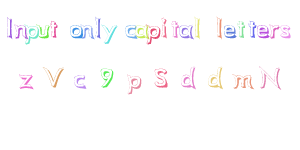9: (93, 61, 117, 93)
I: (1, 13, 19, 43)
N: (257, 62, 283, 93)
S: (150, 63, 171, 92)
V: (40, 61, 66, 92)
a: (177, 22, 194, 42), (133, 22, 149, 41)
c: (71, 70, 91, 95), (123, 22, 138, 40)
d: (203, 64, 228, 93), (175, 63, 199, 91)
e: (223, 23, 237, 41), (257, 22, 269, 42)
i: (160, 17, 170, 39)
l: (211, 12, 224, 40), (192, 11, 203, 38), (94, 14, 104, 41)
m: (229, 70, 254, 93)
n: (78, 20, 94, 41), (13, 21, 29, 41)
o: (67, 21, 84, 42)
p: (121, 70, 147, 98), (144, 21, 162, 47), (22, 23, 40, 45)
r: (268, 18, 279, 40)
s: (280, 20, 295, 47)
t: (48, 17, 61, 39), (236, 16, 247, 40), (247, 17, 257, 42), (170, 20, 180, 39)
u: (36, 21, 50, 41)
y: (101, 21, 118, 45)
z: (14, 62, 37, 93)
